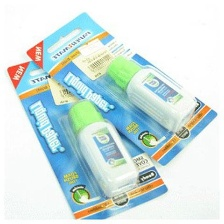book: (24, 9, 219, 168), (4, 44, 171, 224)
correction_fluid: (103, 52, 198, 134), (66, 97, 141, 199)
